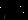person: (6, 5, 13, 19)
